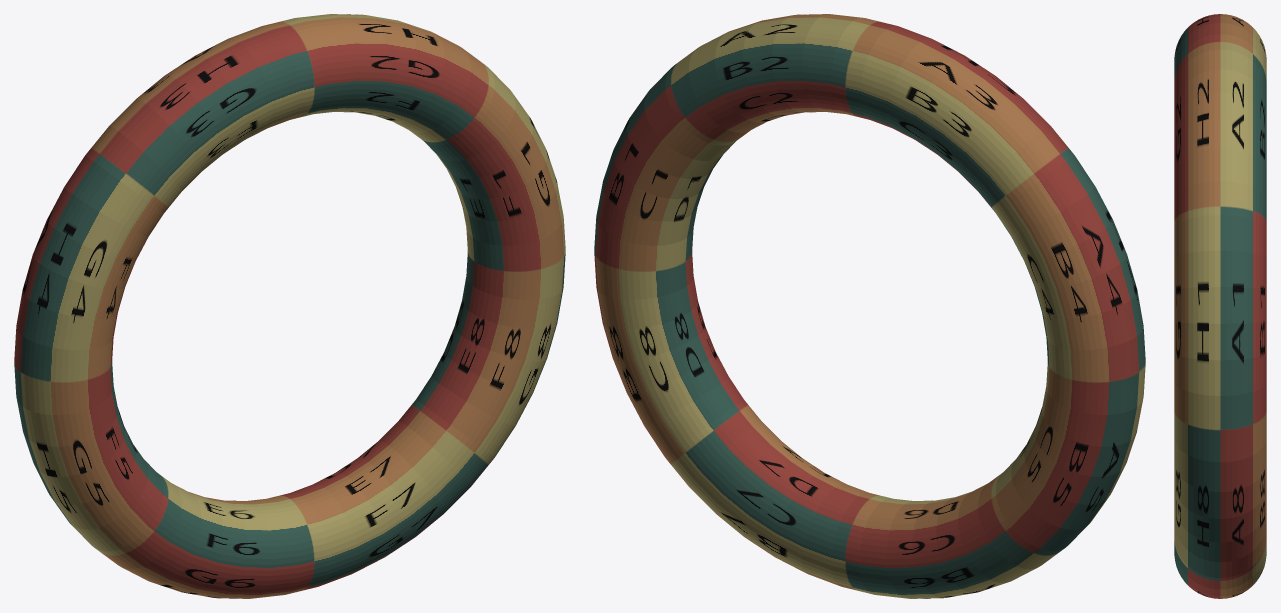
The model's file is texture_torus_R16_r7.glb.
3 renders of one model, left to right at view 1: azimuth 30°, elevation 25°; view 2: azimuth 150°, elevation 25°; view 3: azimuth 270°, elevation 25°, orthographic. The views are drawn at different scales.
Visible parts, largest first — view 1: world; view 2: world; view 3: world.
Part boxes in pixels (left/top/right/bottom): world: left=14, top=14, right=565, bottom=598; world: left=594, top=14, right=1145, bottom=598; world: left=1174, top=14, right=1266, bottom=598.
Size of the model in its own units: 24.53 by 24.48 by 3.86.
1 material, 1 textured.
